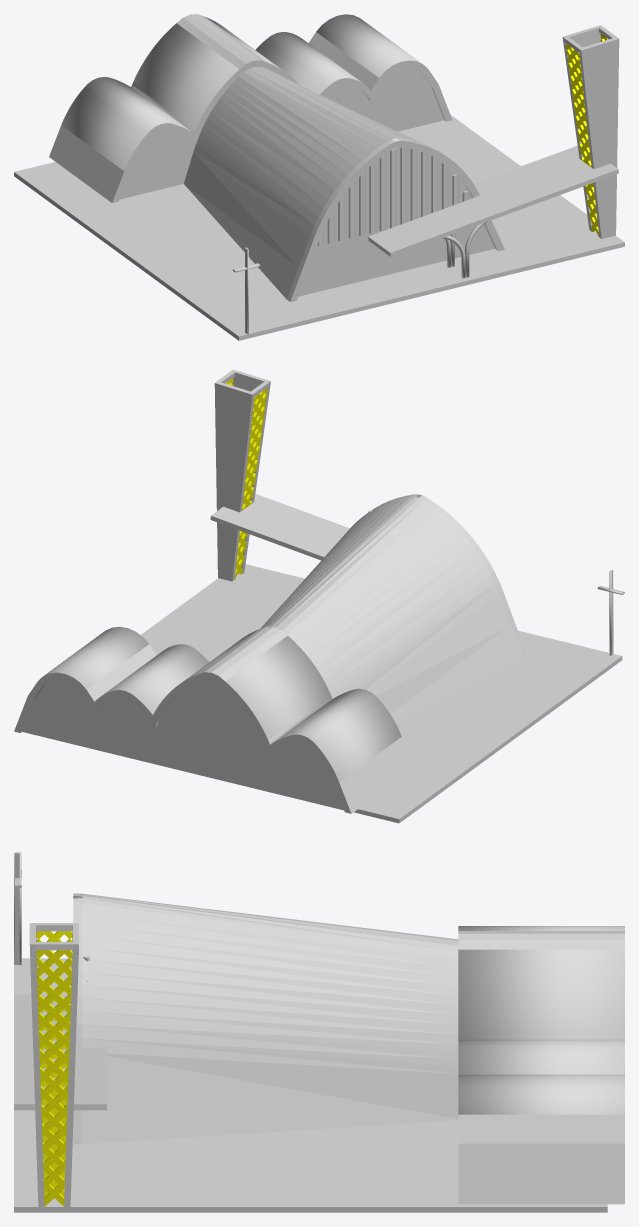
The model's file is Igreja_SaoFrancisco.glb.
The picture shows the model from 3 angles, top to bottom: view 1: azimuth 30°, elevation 25°; view 2: azimuth 150°, elevation 25°; view 3: azimuth 270°, elevation 25°; orthographic projection. The views are drawn at different scales.
Parts seen in each view (by area): view 1: G-__555627, G-__555654; view 2: G-__555627, G-__555654; view 3: G-__555627, G-__555654.
Part boxes in pixels (box(x1,y1,x2,y2)): G-__555627: box(14, 14, 624, 340); G-__555654: box(565, 34, 608, 236); G-__555627: box(14, 369, 624, 823); G-__555654: box(225, 378, 267, 579); G-__555627: box(14, 852, 624, 1212); G-__555654: box(36, 931, 72, 1206).
Size of what is drawn, in the model's own units: 9.4 by 4.69 by 9.67.
